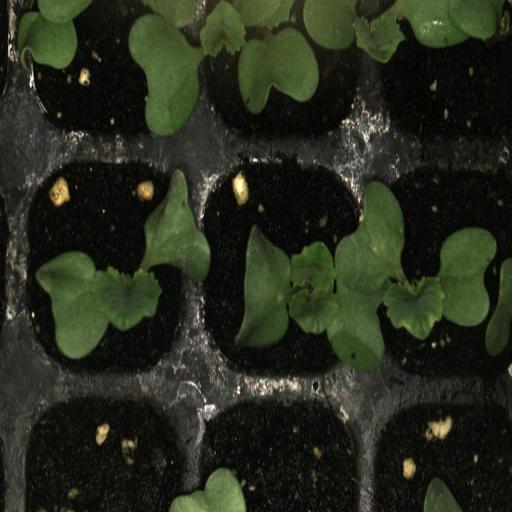Germinacao: (196, 160, 371, 392), (14, 159, 196, 382), (372, 157, 512, 391), (191, 0, 369, 161)
